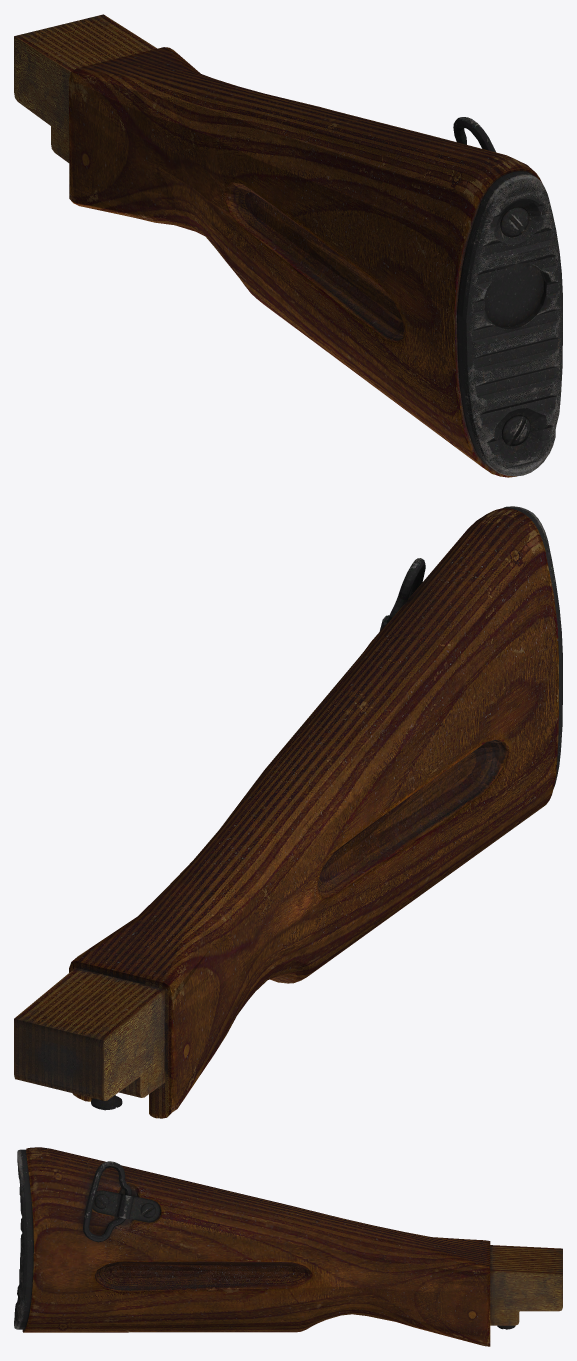
3 renders of one model, top to bottom at view 1: azimuth 30°, elevation 25°; view 2: azimuth 150°, elevation 25°; view 3: azimuth 270°, elevation 25°, orthographic. The views are drawn at different scales.
Parts seen in each view (by area): view 1: TW_5649b1c04bdc2d16268b457c_PZ_Import; view 2: TW_5649b1c04bdc2d16268b457c_PZ_Import; view 3: TW_5649b1c04bdc2d16268b457c_PZ_Import.
Part boxes in pixels (x1,y1,x2,y2): TW_5649b1c04bdc2d16268b457c_PZ_Import: [14, 14, 562, 477]; TW_5649b1c04bdc2d16268b457c_PZ_Import: [14, 506, 562, 1118]; TW_5649b1c04bdc2d16268b457c_PZ_Import: [14, 1147, 562, 1346].
Bounding box in the file's own units: 0.0231 × 0.1568 × 0.0585.
Materials: 1 (1 with a texture image).
